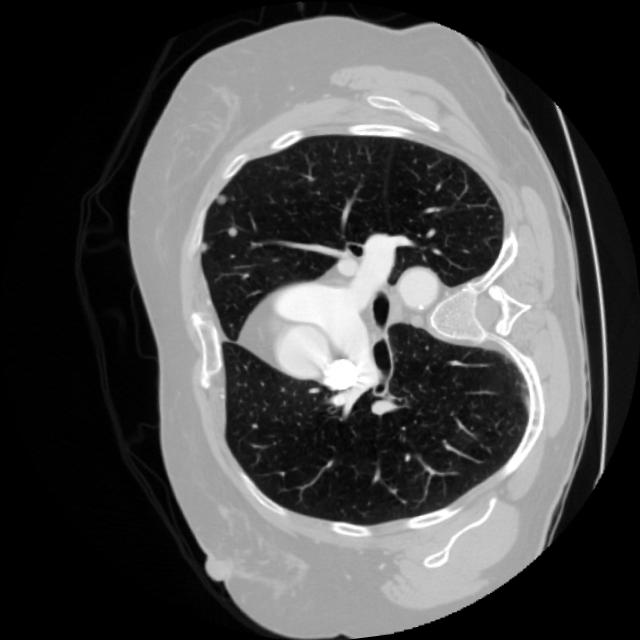nodule: (217, 218, 245, 246)
